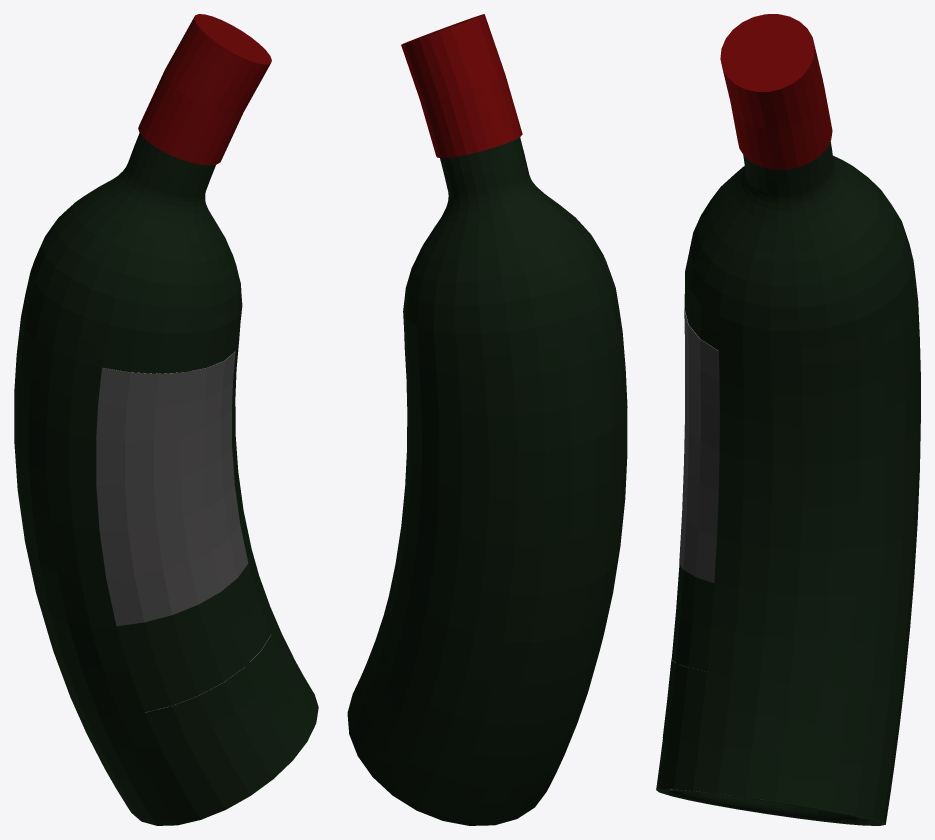
The model's file is bend_high_0.obj.
3 renders of one model, left to right at view 1: azimuth 30°, elevation 25°; view 2: azimuth 150°, elevation 25°; view 3: azimuth 270°, elevation 25°, orthographic. The views are drawn at different scales.
Visible parts, largest first — view 1: model; view 2: model; view 3: model.
Part boxes in pixels (<box>): model: <box>14,14,318,825</box>; model: <box>347,14,627,825</box>; model: <box>656,14,920,825</box>.
Size of the model in its own units: 0.0918 by 0.2616 by 0.0754.
1 material, 1 textured.
